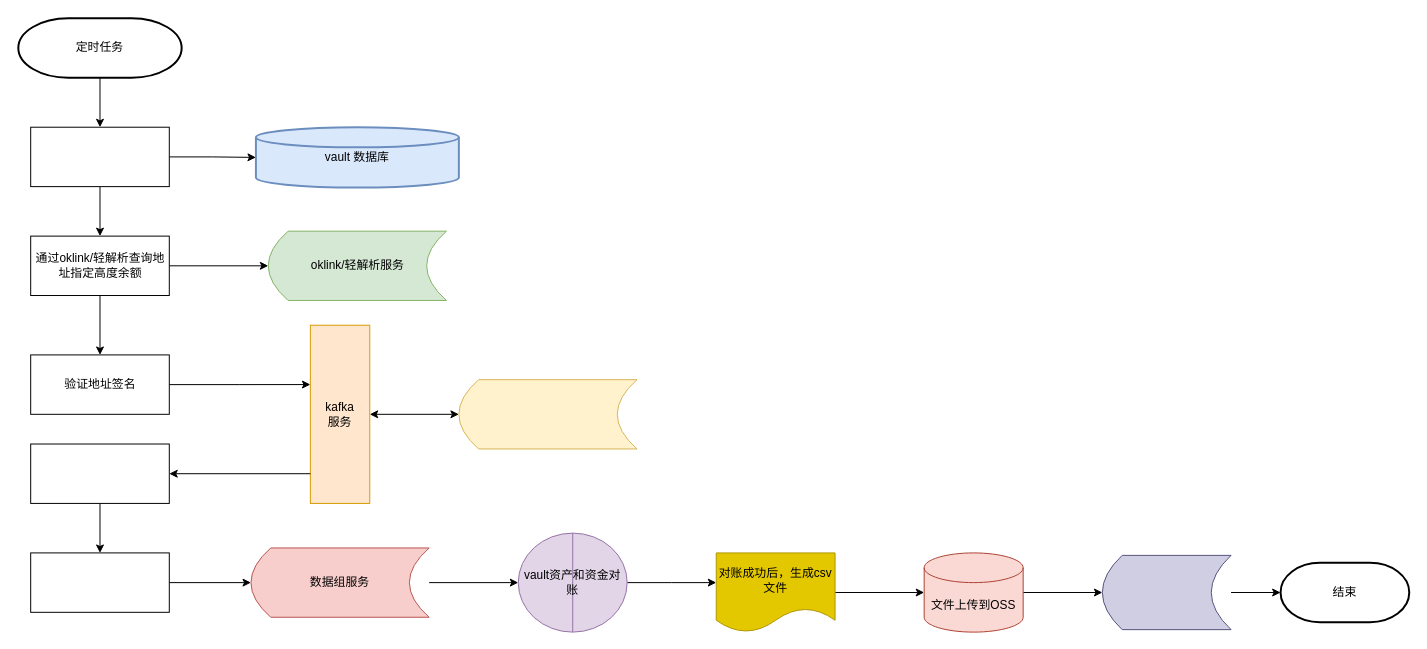
Image size: 1427x649. Some labels were removed from this diagram. Each missing label, with the centre of its shape:
cefi签名服务: (x=547, y=414)
全部签名成功: (x=99, y=473)
根据币种和余额统计地址: (x=99, y=156)
统计各个币种资产总和: (x=99, y=582)
通知资金服务: (x=1166, y=592)
